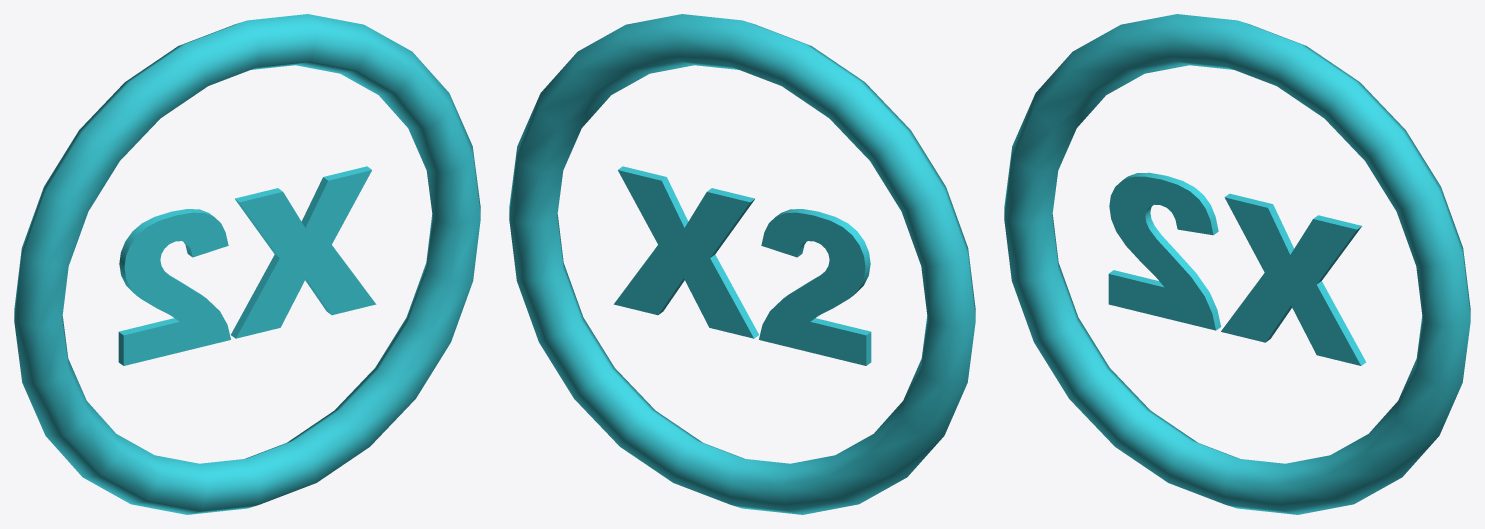
The model's file is doubleshot.FBX.
The picture shows the model from 3 angles, left to right: view 1: azimuth 30°, elevation 25°; view 2: azimuth 150°, elevation 25°; view 3: azimuth 330°, elevation 25°; orthographic projection.
Parts seen in each view (by area): view 1: cerc, doubleshot; view 2: cerc, doubleshot; view 3: cerc, doubleshot.
Part boxes in pixels (x1,y1,x2,y2): cerc: (14, 14, 480, 514); doubleshot: (118, 166, 376, 365); cerc: (509, 14, 975, 514); doubleshot: (613, 166, 871, 365); cerc: (1004, 14, 1470, 514); doubleshot: (1108, 172, 1366, 365).
Bounding box in the file's own units: 137 × 137 × 12.12.
